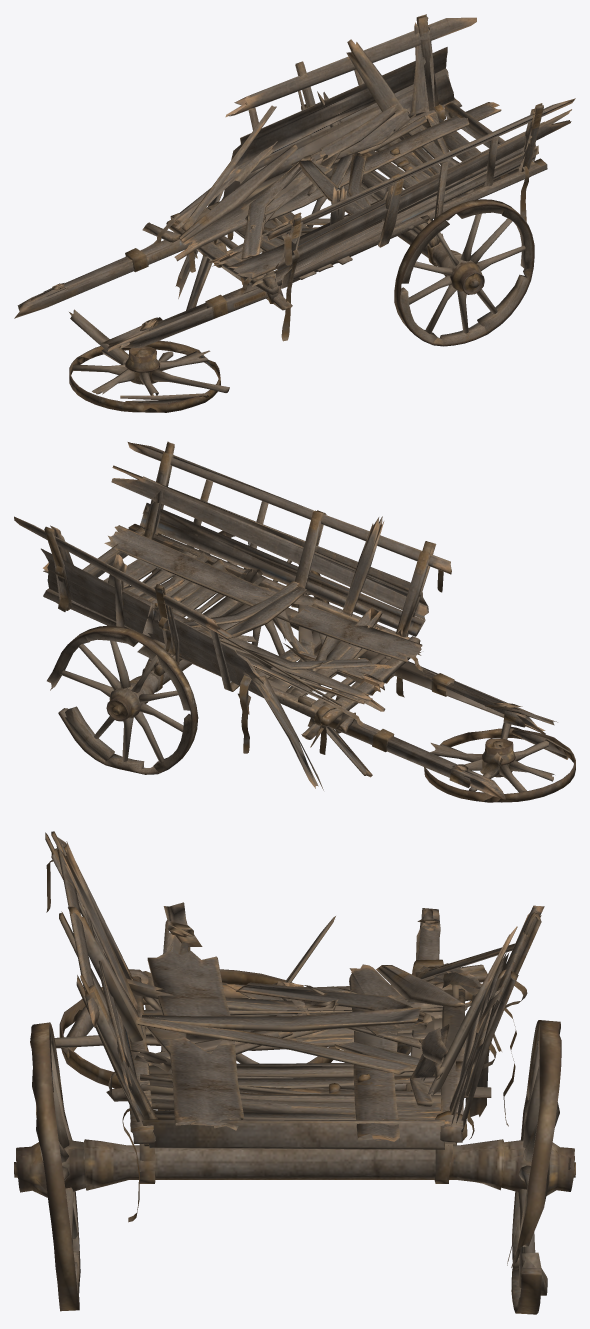
File: des-cart-rubble.glb
3 views of the same model, one above another, from view 1: azimuth 30°, elevation 25°; view 2: azimuth 150°, elevation 25°; view 3: azimuth 270°, elevation 25° (orthographic). The views are drawn at different scales.
Bounding box in the file's own units: 0.9536 × 0.417 × 0.5356.
Materials: 1 (1 with a texture image).
